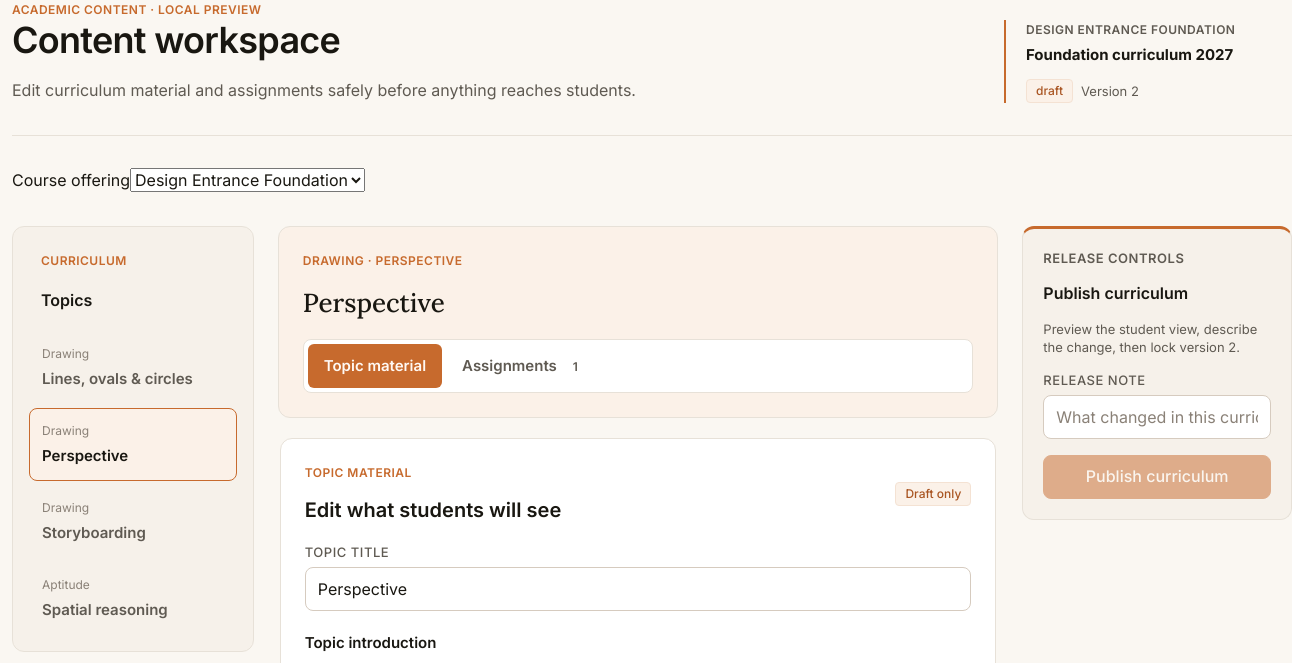
Test: ContentWorkspacePage › lets an editor change topic and lesson material in a safe draft preview
Expected: the heading "Content workspace" is shown, [12,18,340,62]
Step 1. Replace the text in the field labelled "Topic title" with "Perspective drawing" → {"x": 638, "y": 589}, box [305,567,971,611]
(page scrolled)
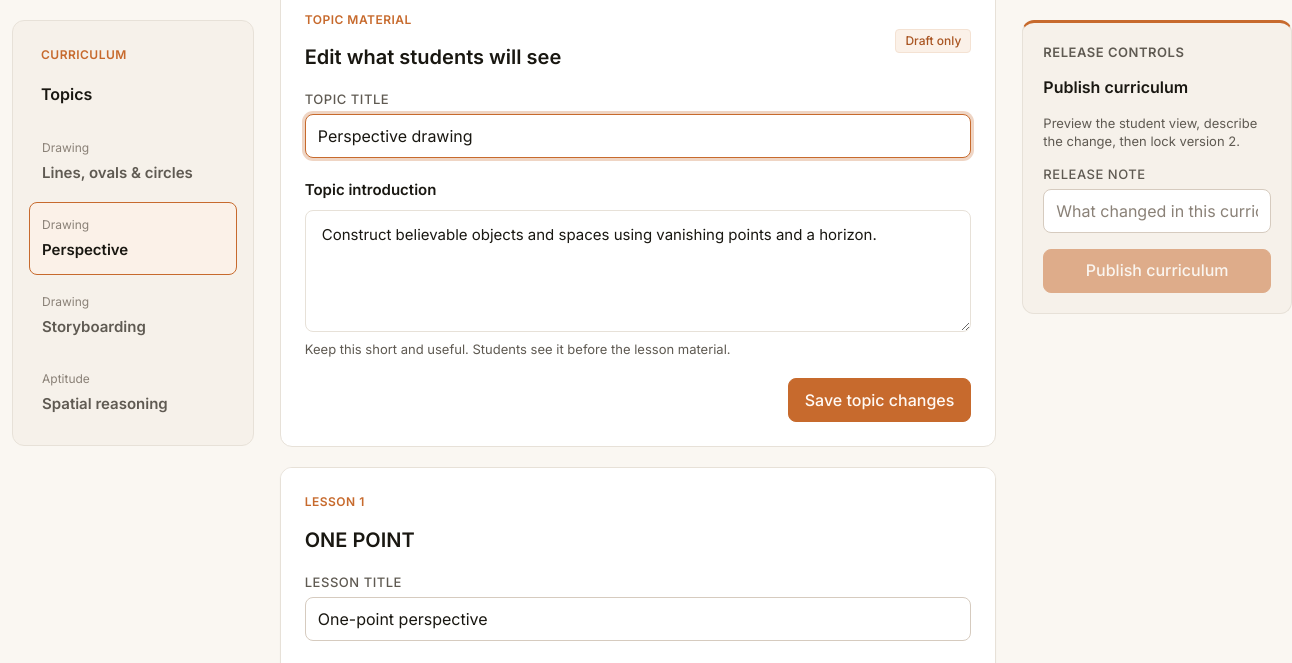
Step 2. Click the button "Save topic changes" → {"x": 880, "y": 400}, box [788,378,971,422]
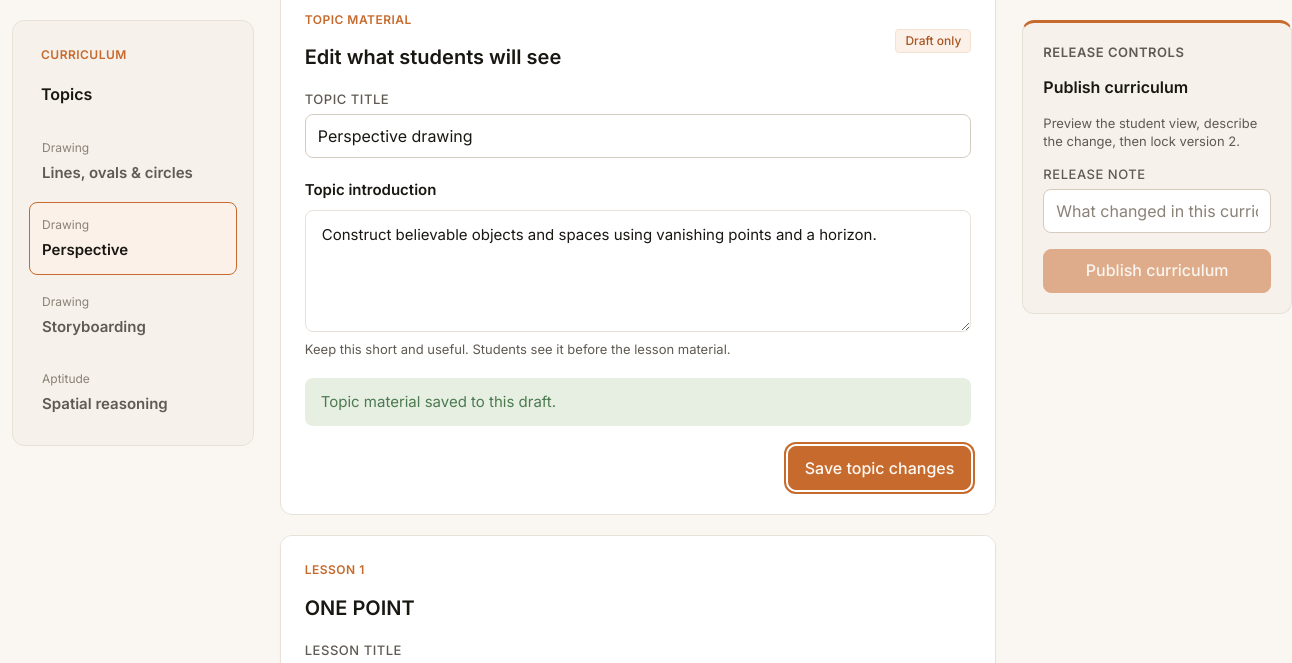
Result: the text "Topic material saved to this draft." is shown at [305,378,971,426]
